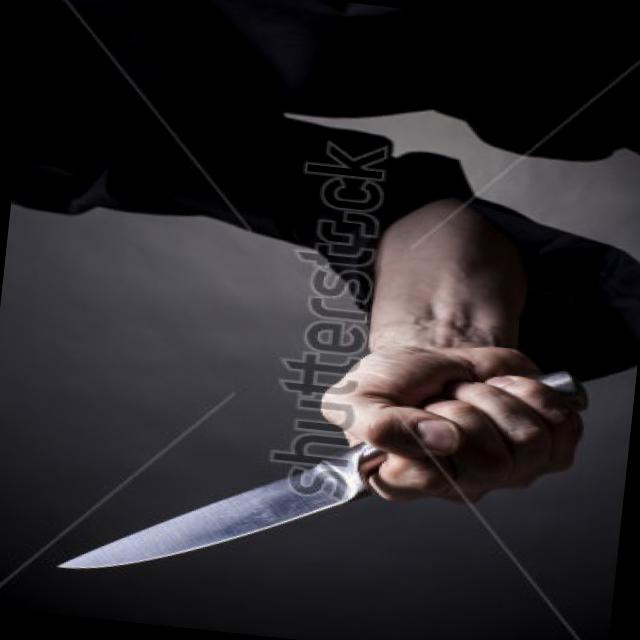knife: (38, 337, 500, 620)
